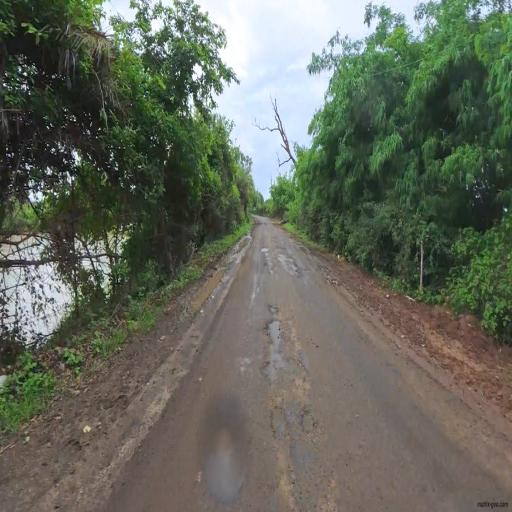pothole: (252, 308, 332, 462)
